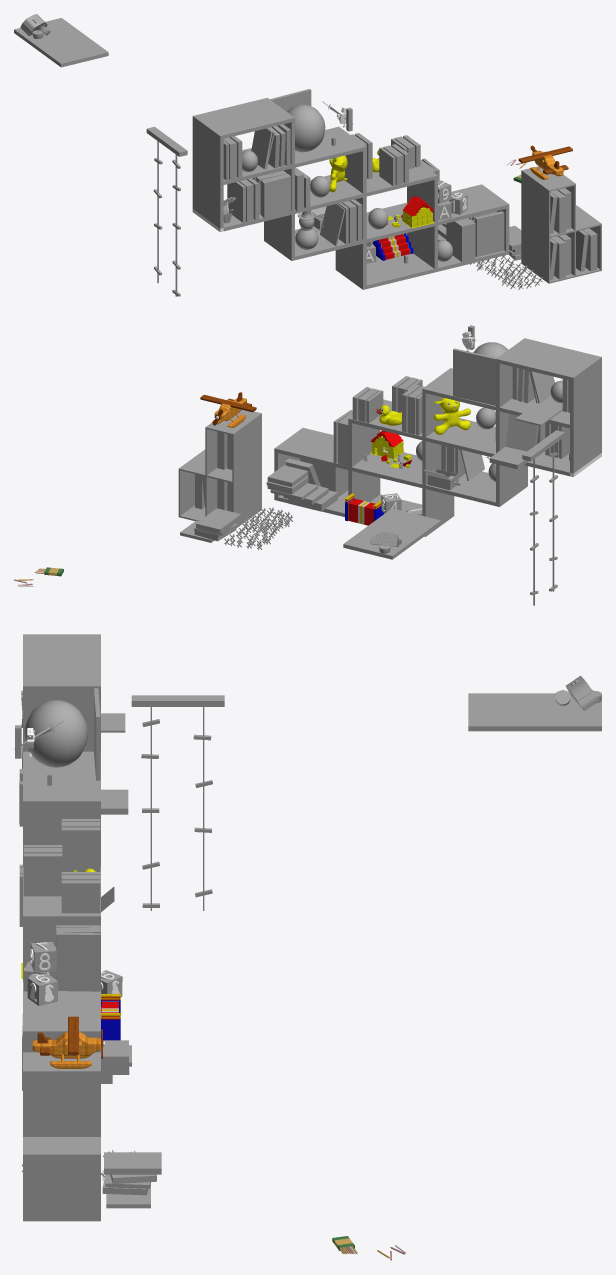
File: sisters-room-additions.fbx
3 views of the same model, one above another, from view 1: azimuth 30°, elevation 25°; view 2: azimuth 150°, elevation 25°; view 3: azimuth 270°, elevation 25° (orthographic). The views are drawn at different scales.
Parts seen in each view (by area): view 1: platforms:pCube30, pCube44, pCube76, pCube193, pCube43, platforms:pCube59, platforms:pCube51, pSphere9, pCube201, pCube223, pCube80, pCube228 (+29 smaller); view 2: platforms:pCube30, pCube44, pCube249, pCube205, pCube72, pCube80, pCube43, pCube193, platforms:pCube59, platforms:pCube51, pCube63, spt_maya2011:pCube10 (+36 smaller); view 3: platforms:pCube60, pCube52, platforms:pCube30, pCube44, pSphere9, pCube201, pCube239, pCube80, pCube203, spt_maya2011:pCube10, pCube130, pCube133 (+9 smaller).
Part boxes in pixels (<box>): platforms:pCube30: <box>14,18,108,67</box>; pCube44: <box>196,98,291,138</box>; pCube76: <box>366,253,434,288</box>; pCube193: <box>192,166,223,228</box>; pCube43: <box>192,120,223,182</box>; platforms:pCube59: <box>521,172,550,236</box>; platforms:pCube51: <box>521,218,550,282</box>; pSphere9: <box>287,104,325,152</box>; pCube201: <box>295,127,362,167</box>; pCube223: <box>474,211,504,256</box>; pCube80: <box>438,185,505,225</box>; pCube228: <box>446,218,475,262</box>; platforms:pCube30: <box>343,508,441,559</box>; pCube44: <box>499,339,597,380</box>; pCube249: <box>453,348,496,405</box>; pCube205: <box>425,418,495,456</box>; pCube72: <box>352,452,422,487</box>; pCube80: <box>278,428,348,469</box>; pCube43: <box>570,361,601,425</box>; pCube193: <box>570,409,601,473</box>; platforms:pCube59: <box>232,415,261,481</box>; platforms:pCube51: <box>232,463,261,525</box>; pCube63: <box>425,471,495,505</box>; spt_maya2011:pCube10: <box>200,392,256,427</box>; platforms:pCube60: <box>23,1073,100,1136</box>; pCube52: <box>23,1156,100,1219</box>; platforms:pCube30: <box>468,693,601,731</box>; pCube44: <box>23,636,100,683</box>; pSphere9: <box>24,700,87,767</box>; pCube201: <box>23,751,100,798</box>; pCube239: <box>56,932,100,991</box>; pCube80: <box>23,981,100,1028</box>; pCube203: <box>23,806,100,866</box>; spt_maya2011:pCube10: <box>32,1016,104,1068</box>; pCube130: <box>61,827,100,871</box>; pCube133: <box>23,853,62,896</box>.
Bounding box in the file's own units: 324 × 160 × 264.
39 materials, 3 textured.
